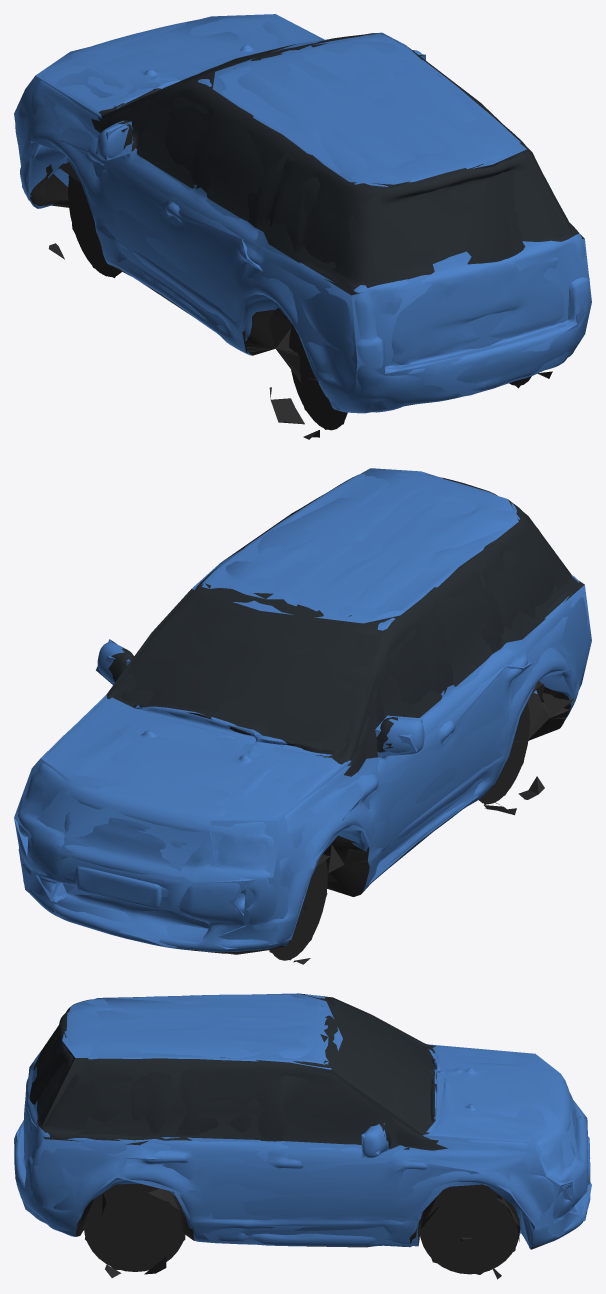
The model's file is land-rover-lr2.glb.
The picture shows the model from 3 angles, top to bottom: view 1: azimuth 30°, elevation 25°; view 2: azimuth 150°, elevation 25°; view 3: azimuth 270°, elevation 25°; orthographic projection. The views are drawn at different scales.
Visible parts, largest first — view 1: body, far; view 2: body, far; view 3: body, far.
Part boxes in pixels (x1,y1,x2,y2): body: [15, 16, 590, 439]; far: [14, 14, 591, 429]; body: [17, 472, 589, 964]; far: [14, 468, 591, 960]; body: [14, 994, 590, 1277]; far: [14, 993, 591, 1279].
Size of the model in its own units: 2.31 by 1.86 by 4.54.
